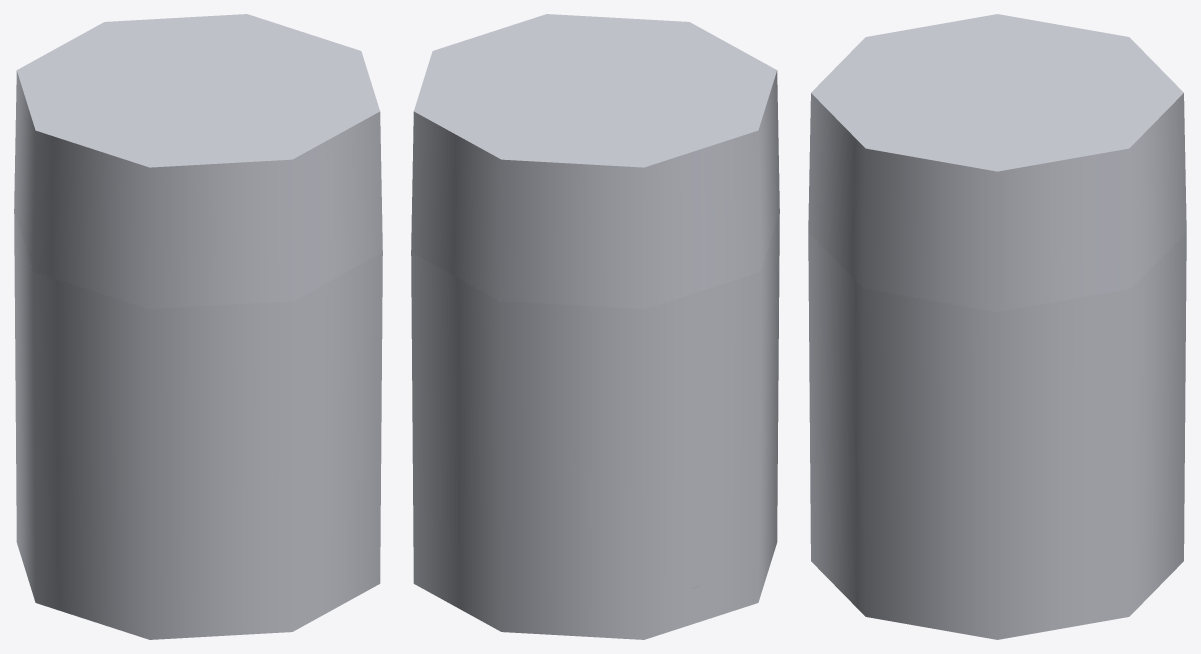
Rendered from cotton.glb.
3 renders of one model, left to right at view 1: azimuth 30°, elevation 25°; view 2: azimuth 150°, elevation 25°; view 3: azimuth 270°, elevation 25°, orthographic.
Parts seen in each view (by area): view 1: cleaning_cotton_tips_container, cleaning_cotton_tips_lid.001; view 2: cleaning_cotton_tips_container, cleaning_cotton_tips_lid.001; view 3: cleaning_cotton_tips_container, cleaning_cotton_tips_lid.001.
Part boxes in pixels (x1,y1,x2,y2): cleaning_cotton_tips_container: [14, 211, 382, 639]; cleaning_cotton_tips_lid.001: [14, 14, 382, 309]; cleaning_cotton_tips_container: [411, 211, 779, 639]; cleaning_cotton_tips_lid.001: [411, 14, 779, 309]; cleaning_cotton_tips_container: [808, 232, 1186, 639]; cleaning_cotton_tips_lid.001: [808, 14, 1186, 311].
Size of the model in its own units: 10.62 by 14.51 by 10.62.
Materials: 2 (2 with a texture image).
